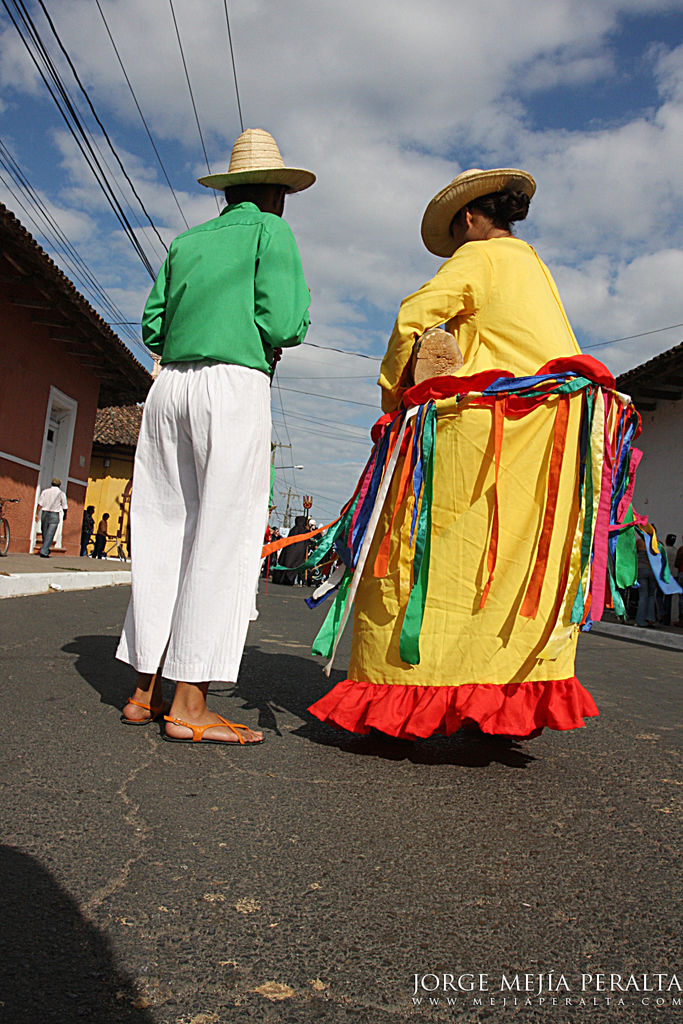Footwear: (161, 712, 266, 747)
